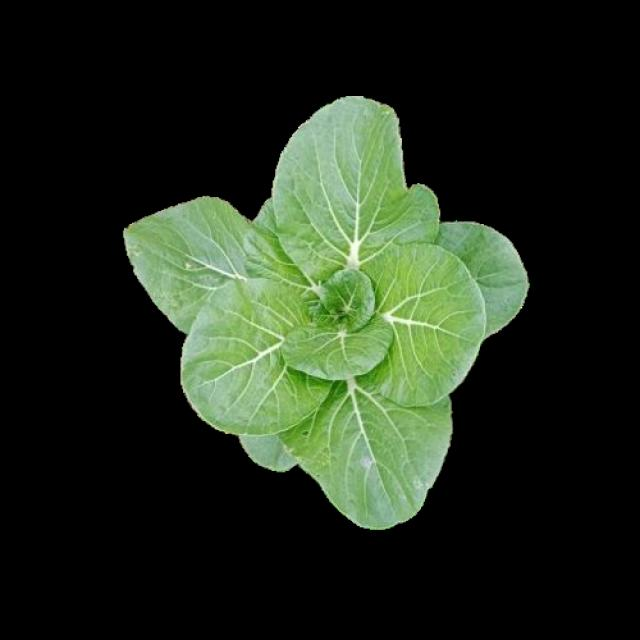healthy: (120, 97, 528, 529)
not-mature: (123, 100, 530, 531)
